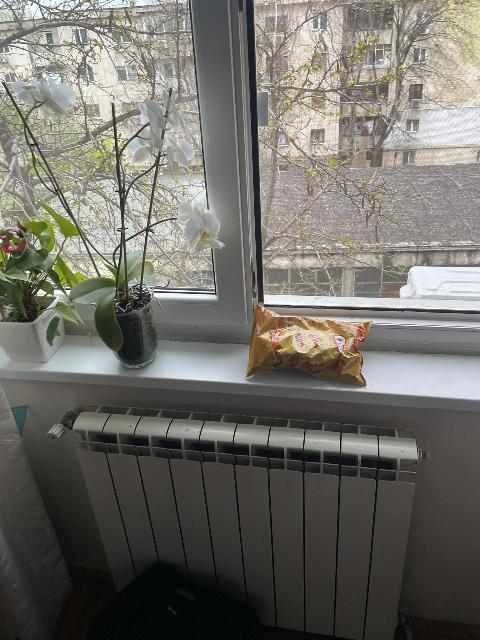Chio Hula Hoops Cheese 70g: (245, 304, 368, 382)
